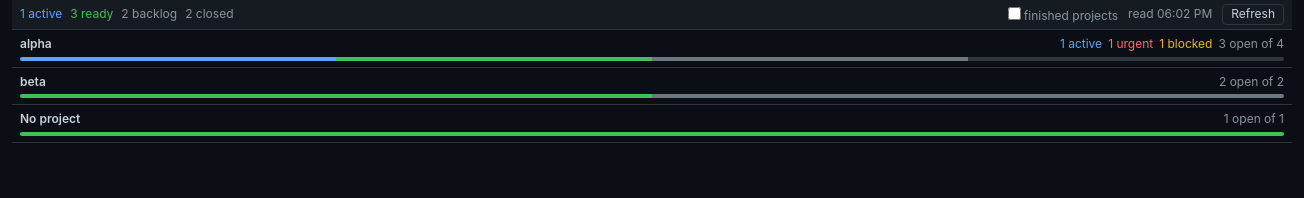
Test: ProjectsPane › shows a finished project once asked to
Check: the text "alpha" is shown, box 20,36 -> 52,51
Check: the text "gamma" is not shown
Click the checkbox labelled "finished projects" at (1014, 14), box 1008,7 -> 1021,20
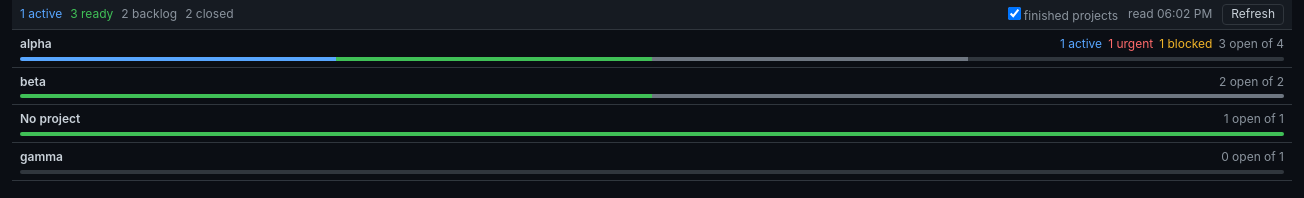
Check: the text "gamma" is shown, box 20,149 -> 63,164
